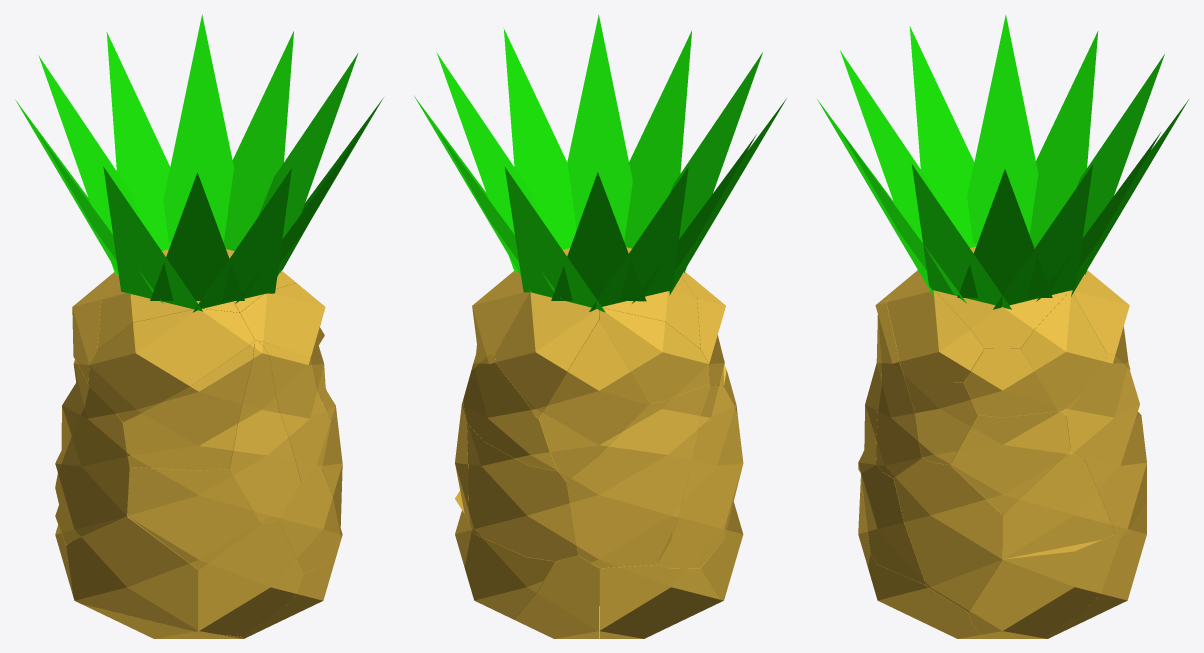
File: Nanas Meledak.fbx
3 views of the same model, side by side, from view 1: azimuth 30°, elevation 25°; view 2: azimuth 150°, elevation 25°; view 3: azimuth 270°, elevation 25° (orthographic).
Parts seen in each view (by area): view 1: Cylinder_cell.011, Cylinder_cell.017, Cylinder_cell.010, Cylinder_cell.020, Cylinder_cell.024, Cylinder_cell.028, Plane.010, Cylinder_cell.002, Plane.001, Plane.004, Plane.011, Cylinder_cell.012 (+17 smaller); view 2: Cylinder_cell.019, Cylinder_cell.009, Cylinder_cell.007, Cylinder_cell.028, Plane.006, Cylinder_cell.004, Cylinder_cell.021, Plane.002, Plane.005, Cylinder_cell.027, Cylinder_cell.026, Plane.007 (+16 smaller); view 3: Cylinder_cell.018, Cylinder_cell.014, Plane.008, Cylinder_cell.008, Cylinder_cell.006, Cylinder_cell.029, Plane, Plane.003, Cylinder_cell.023, Plane.009, Cylinder_cell.026, Cylinder_cell.012 (+18 smaller).
Boxes of the visible parts, x1,y1,x2,y2 form: Cylinder_cell.011: (88, 308, 254, 421); Cylinder_cell.017: (66, 516, 198, 631); Cylinder_cell.010: (123, 341, 253, 470); Cylinder_cell.020: (127, 466, 260, 569); Cylinder_cell.024: (199, 512, 304, 636); Cylinder_cell.028: (55, 387, 129, 544); Plane.010: (163, 14, 233, 242); Cylinder_cell.002: (229, 340, 300, 523); Plane.001: (223, 31, 293, 250); Plane.004: (106, 32, 171, 250); Plane.011: (150, 172, 244, 300); Cylinder_cell.012: (257, 341, 330, 481); Cylinder_cell.019: (566, 384, 710, 568); Cylinder_cell.009: (467, 423, 578, 561); Cylinder_cell.007: (539, 320, 649, 481); Cylinder_cell.028: (656, 385, 743, 568); Plane.006: (567, 14, 632, 241); Cylinder_cell.004: (495, 292, 598, 418); Cylinder_cell.021: (599, 564, 720, 638); Plane.002: (503, 28, 576, 249); Plane.005: (624, 31, 691, 248); Cylinder_cell.027: (599, 308, 709, 403); Cylinder_cell.026: (463, 354, 557, 470); Plane.007: (551, 172, 646, 301); Cylinder_cell.018: (893, 458, 1002, 611); Cylinder_cell.014: (968, 534, 1120, 638); Plane.008: (967, 14, 1038, 243); Cylinder_cell.008: (950, 411, 1070, 514); Cylinder_cell.006: (1002, 449, 1115, 559); Cylinder_cell.029: (886, 281, 984, 382); Plane: (909, 26, 977, 247); Plane.003: (1029, 31, 1098, 247); Cylinder_cell.023: (1021, 290, 1106, 415); Plane.009: (957, 169, 1052, 297); Cylinder_cell.026: (1066, 353, 1141, 459); Cylinder_cell.012: (876, 299, 921, 477).
Bounding box in the file's own units: 322 × 494 × 324.
